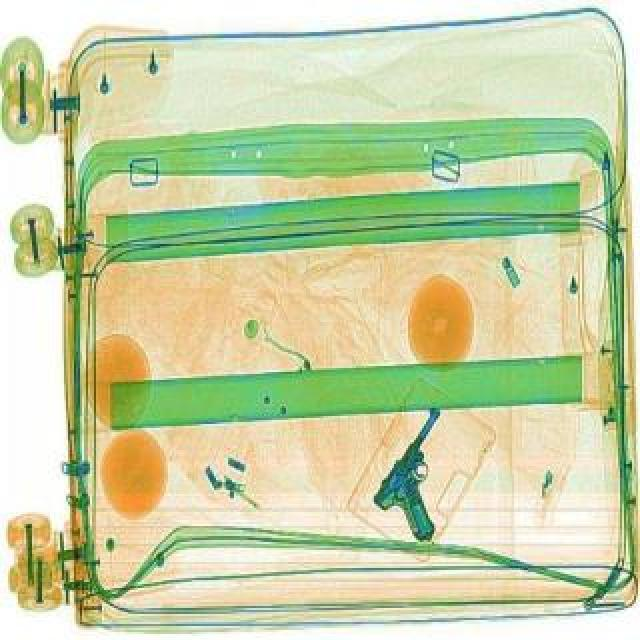gun: (362, 402, 496, 542)
